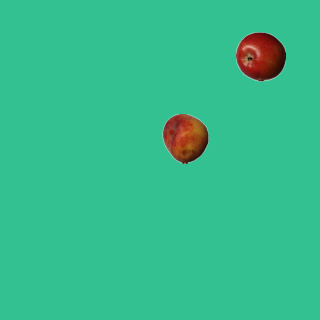Apple Braeburn: (235, 31, 285, 81)
Peach: (160, 113, 210, 163)
